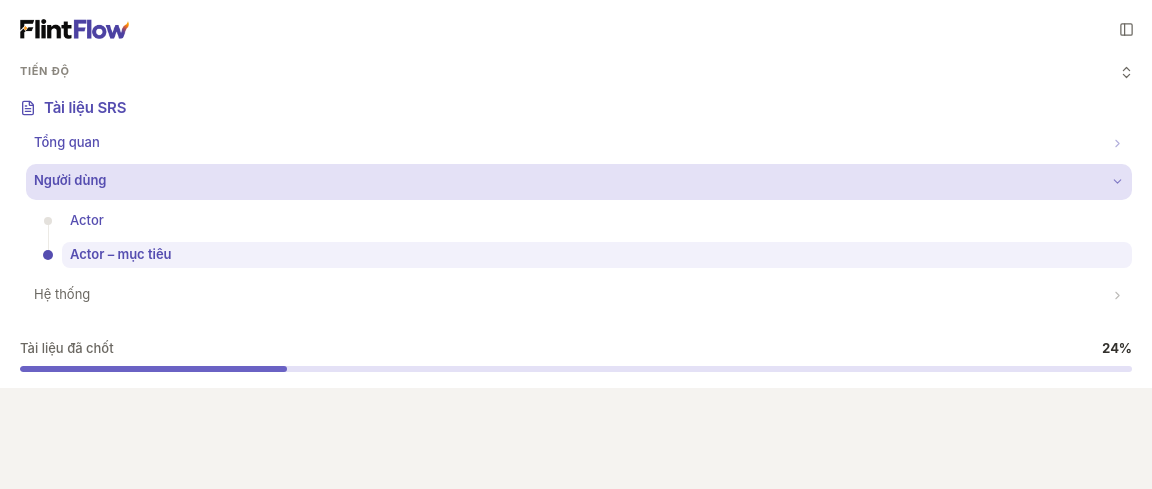
Test: WorkspaceProgressRail › giai đoạn đang làm mở sẵn; mở thêm giai đoạn khác không đóng cái cũ; nút thu gọn tất cả
Expected: the button "Actor – mục tiêu" is shown, [42,238,1132,272]
Expected: the text "Tài liệu đã chốt" is shown, [20,338,114,358]
Click the button "Tổng quan" at (67, 142), box [26,126,1132,162]
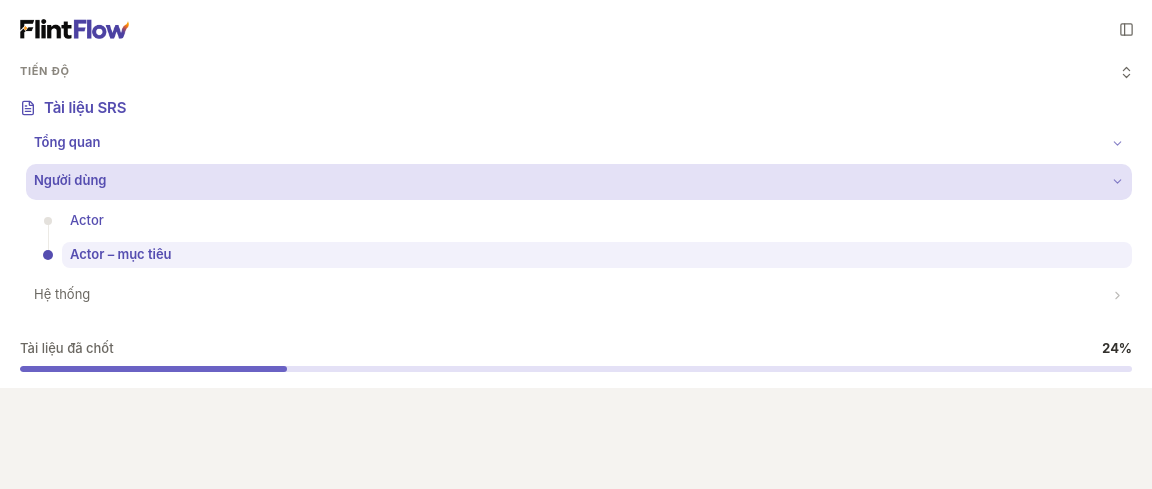
Expected: the button "Actor – mục tiêu" is shown, [42,238,1132,272]
Click the button named "Thu gọn tất cả bước" at (1126, 72), box [1112,58,1140,86]
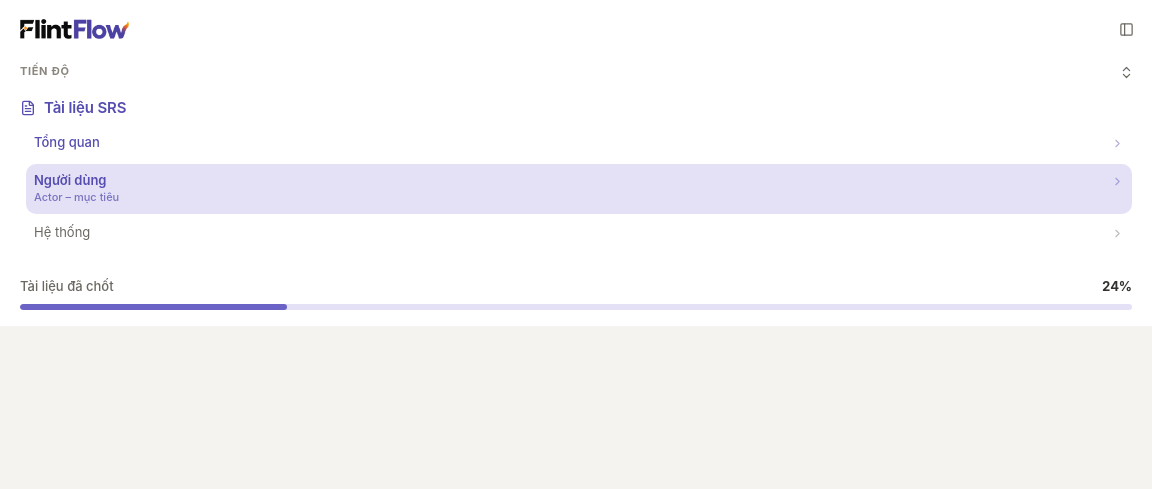
Expected: the button "Tổng quan sản phẩm" is not shown
Click the button named "Mở rộng tất cả bước" at (1126, 72), box [1112,58,1140,86]
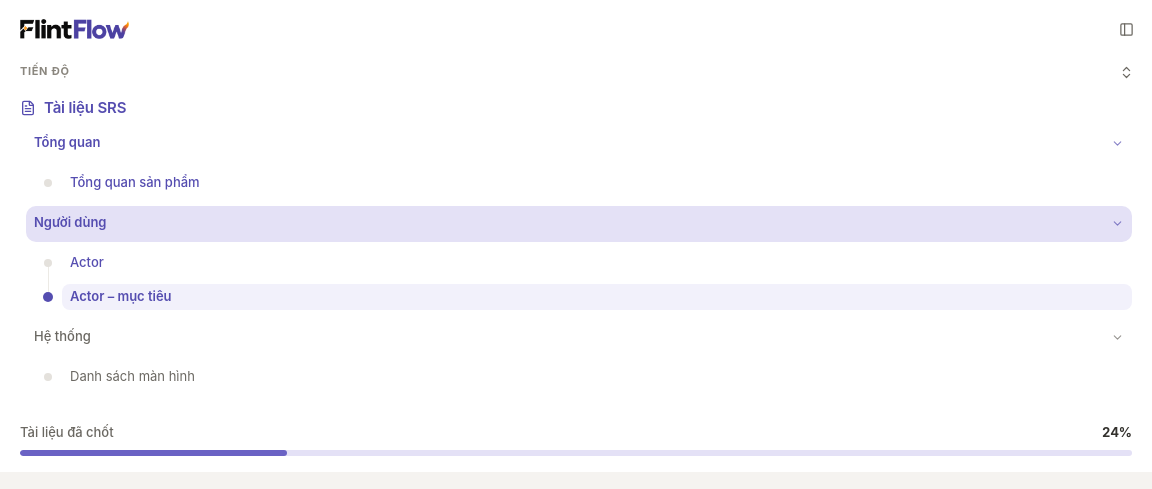
Expected: the button "Actor – mục tiêu" is shown, [42,280,1132,314]
Result: the button "Tổng quan sản phẩm" is shown at [42,166,1132,200]
Result: the button "Danh sách màn hình" is shown at [42,360,1132,394]
